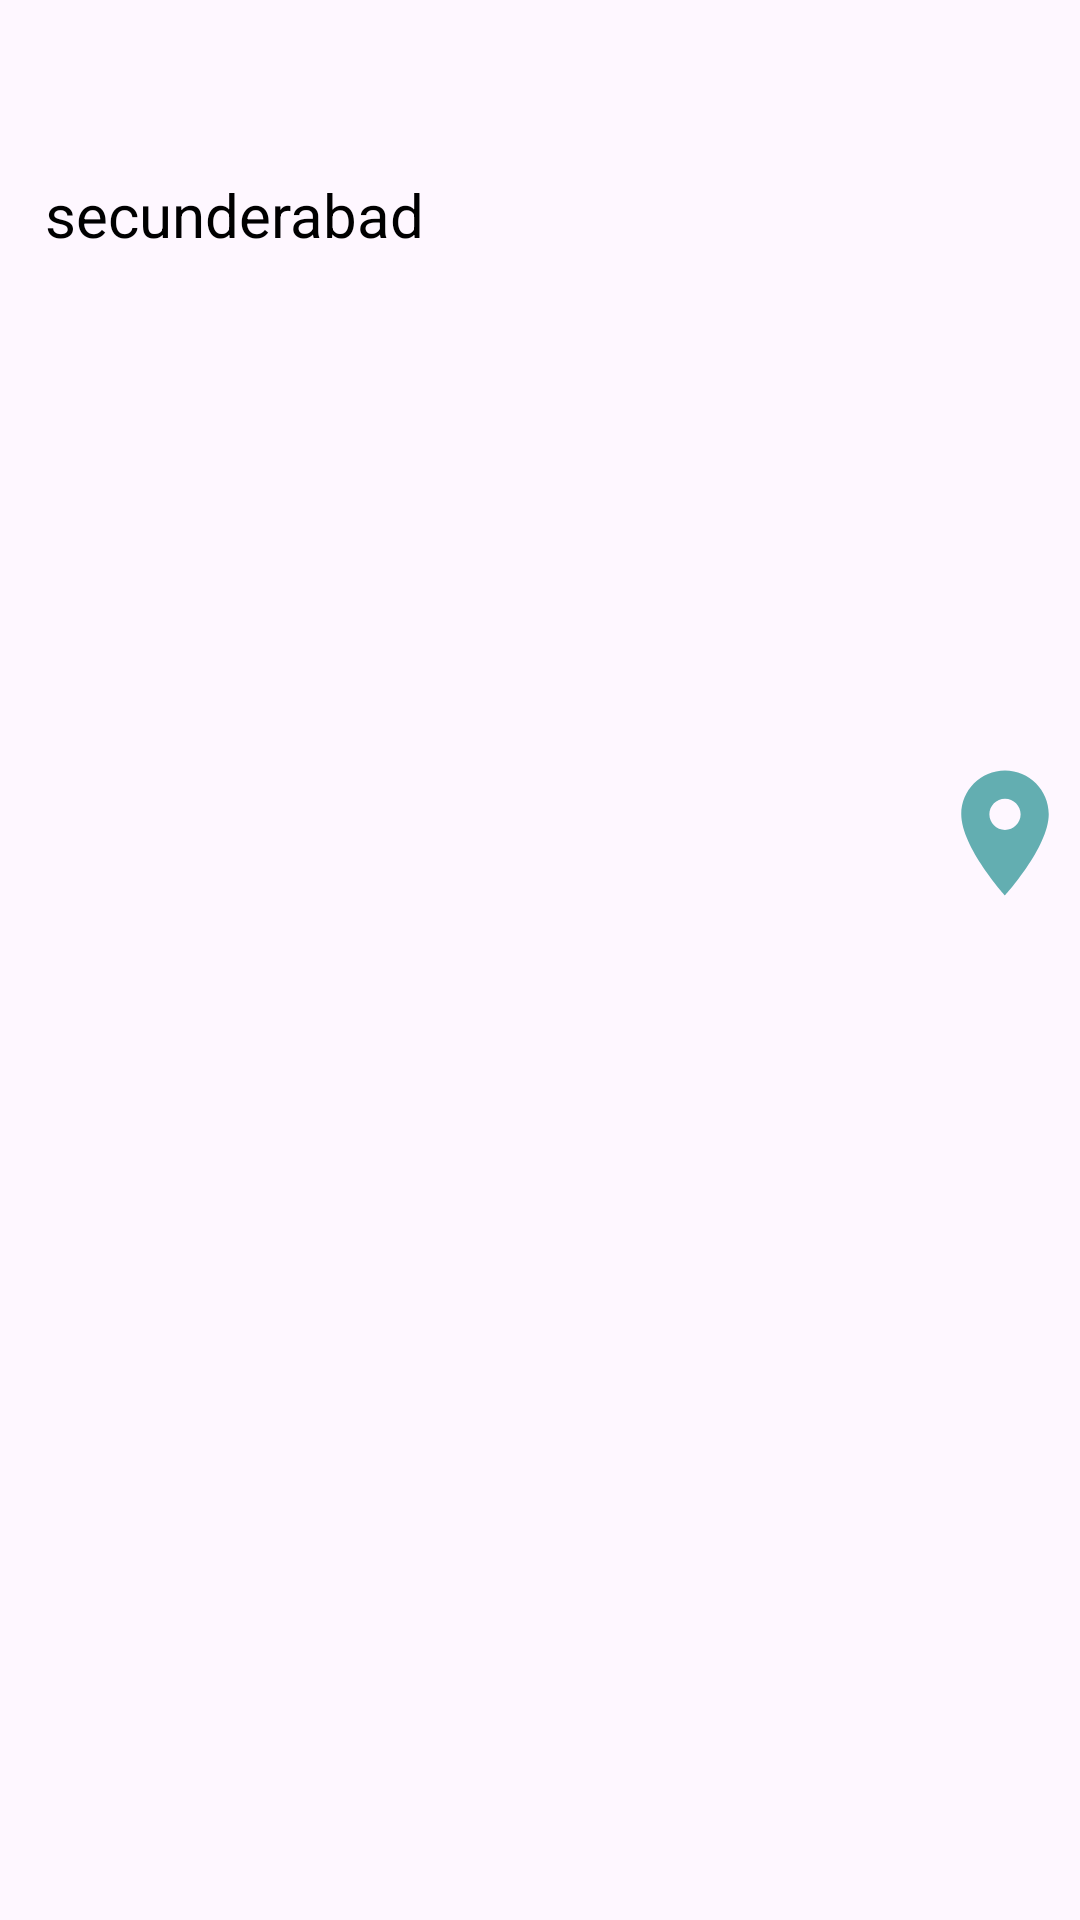

Screen size 1080px x 1920px. Icon name, then its box in pixels as (x1, y1, x2, y2):
station location: (961, 770, 1049, 895)
